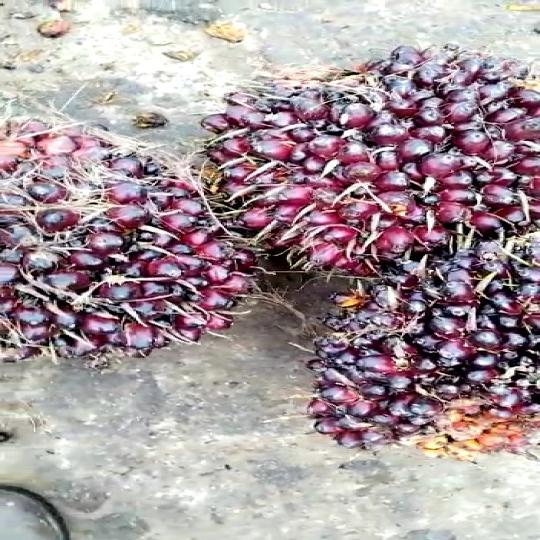kurang masak: (197, 29, 540, 265), (4, 129, 281, 374), (325, 220, 540, 464)
